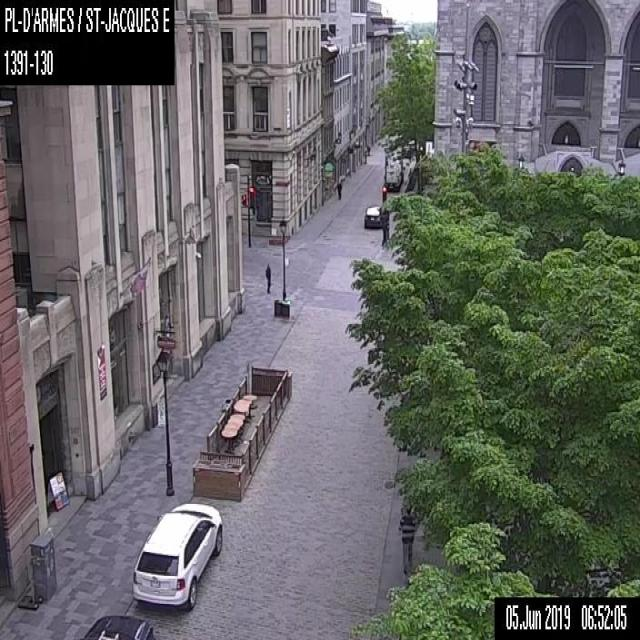pedestrian: (397, 502, 416, 575), (264, 262, 271, 293), (335, 178, 342, 200)
vehicle: (131, 500, 223, 607), (81, 613, 153, 639), (384, 157, 405, 191), (363, 204, 382, 228)
